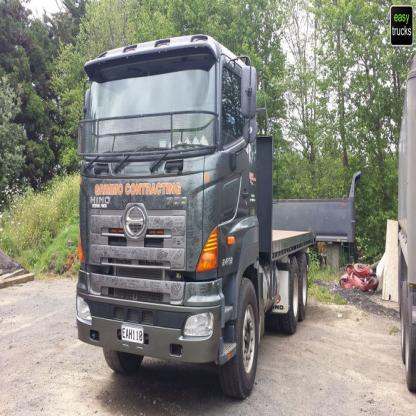dump_truck: (65, 23, 323, 400)
